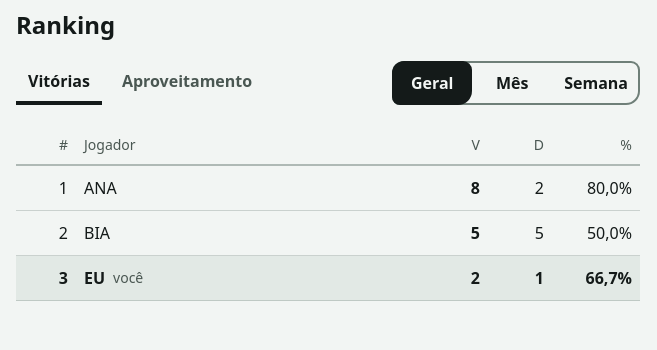
Test: nota do mínimo só em Aproveitamento, com minMatches da resposta
expect the text "Só quem jogou" is not shown: met
Click the tab "Aproveitamento": [187, 83] box left=110, top=61, right=264, bottom=105
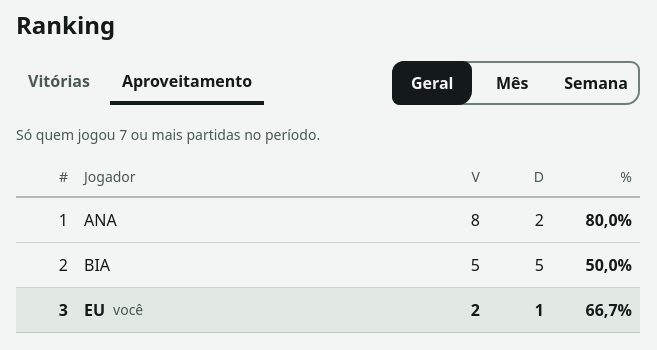
expect the text "Só quem jogou 7 ou mais partidas no período." is shown: met, box left=16, top=125, right=320, bottom=144
